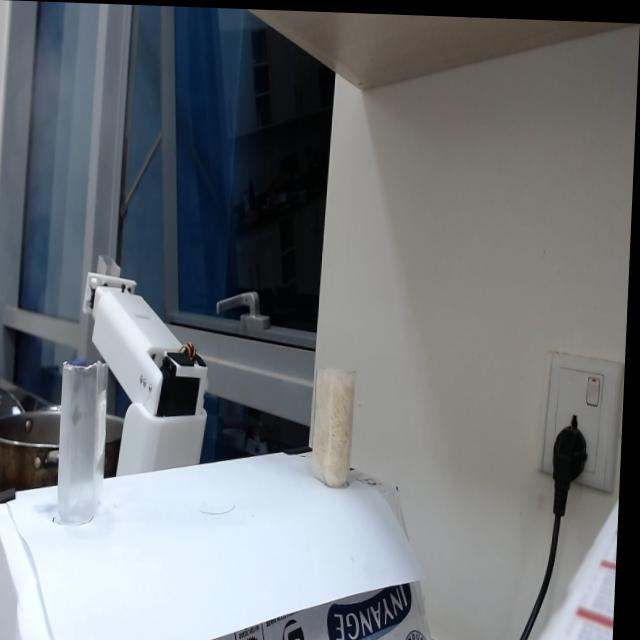raw_rice: (315, 366, 357, 487)
